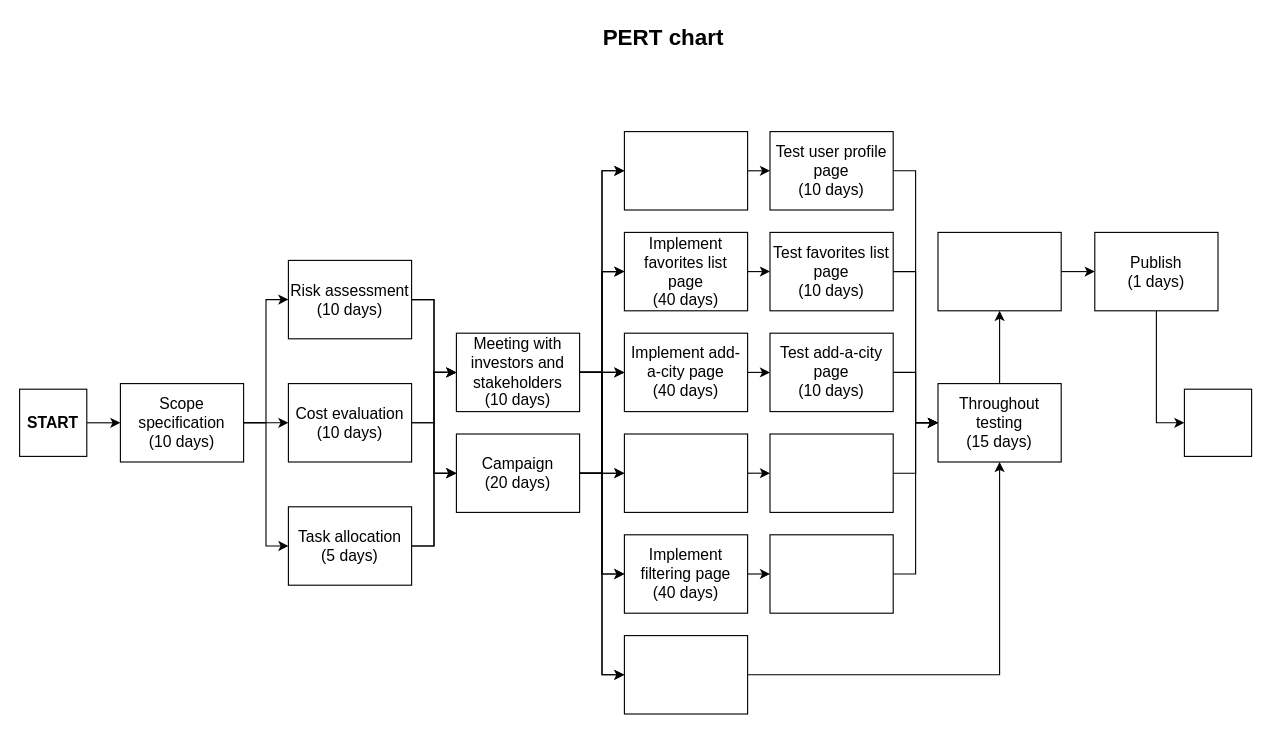
Image size: 1271x734. Some labels were removed from this diagram. The shapes that lost their labels are listed below. From the top down, each one's centre as x and y in pixels, then its label:
(x=685, y=170): Implement user profile page (40 days)
(x=999, y=271): Buy a domain (4 days)
(x=1217, y=422): FINISH
(x=685, y=472): Implement details page ( 40 days)
(x=831, y=472): Test details page (10 days)
(x=831, y=573): Test filtering page (10 days)
(x=685, y=674): Backend development (50 days)
